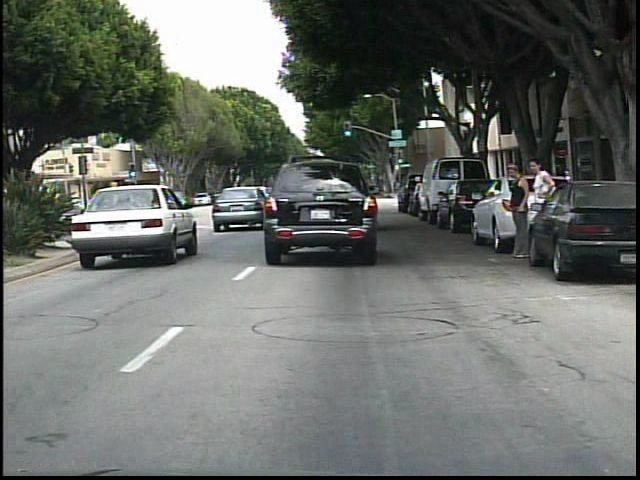person: (526, 154, 559, 256), (502, 164, 532, 266)
